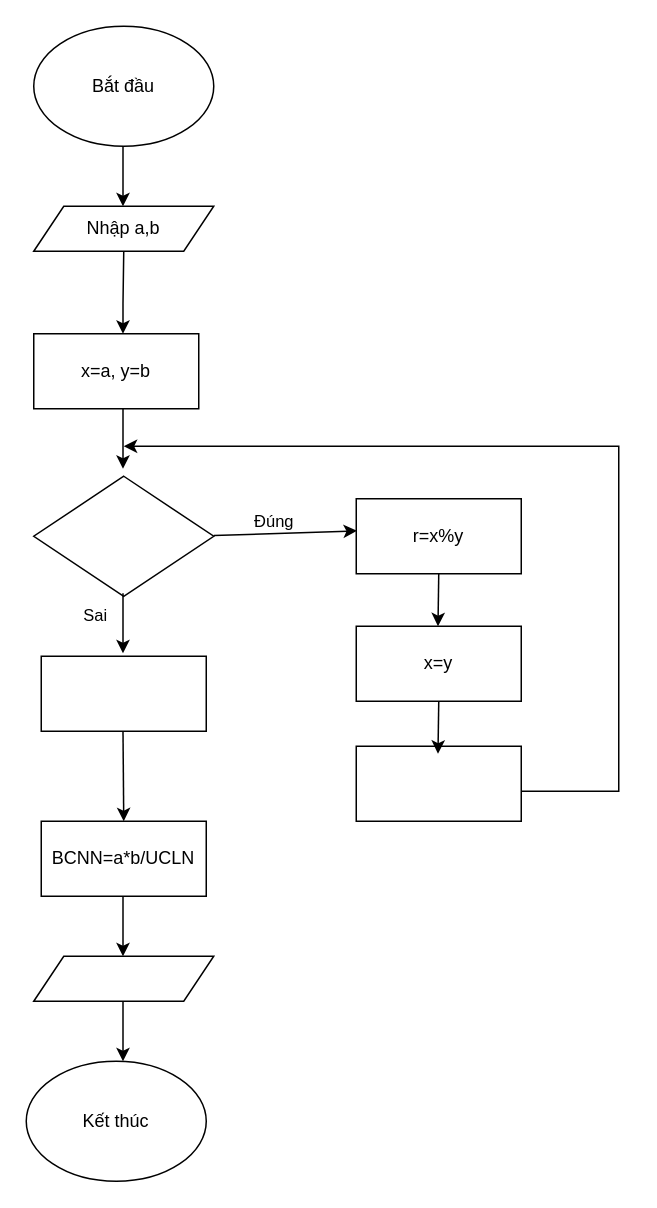
Image size: 657x1208. Some labels were removed from this diagram. The box of each missing label's shape, as (x1, y1, x2, y2) in pixels:
UCLN=x: (40, 655, 206, 731)
Xuất BCNN: (32, 955, 214, 1001)
y!=0?: (32, 475, 214, 596)
y=r: (355, 745, 521, 821)
